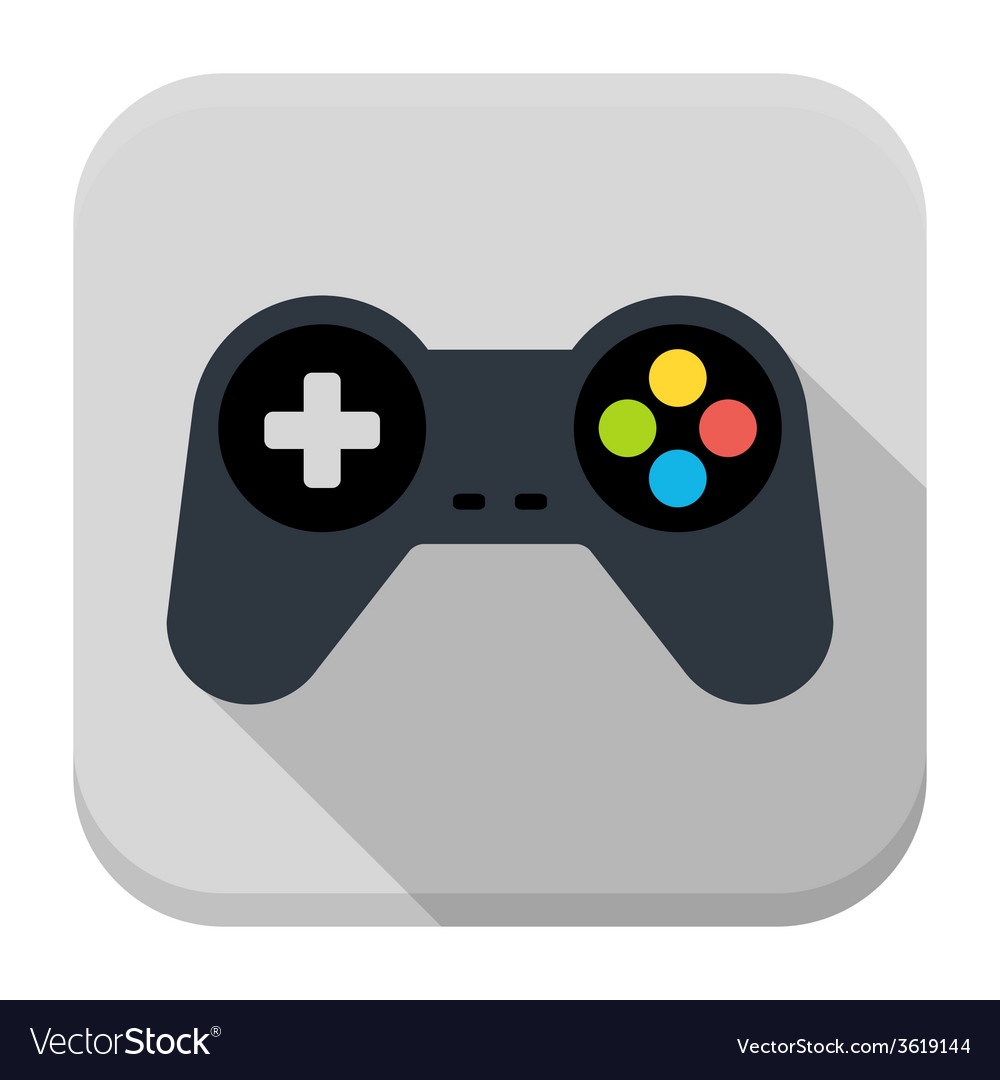controller: (164, 295, 835, 703)
